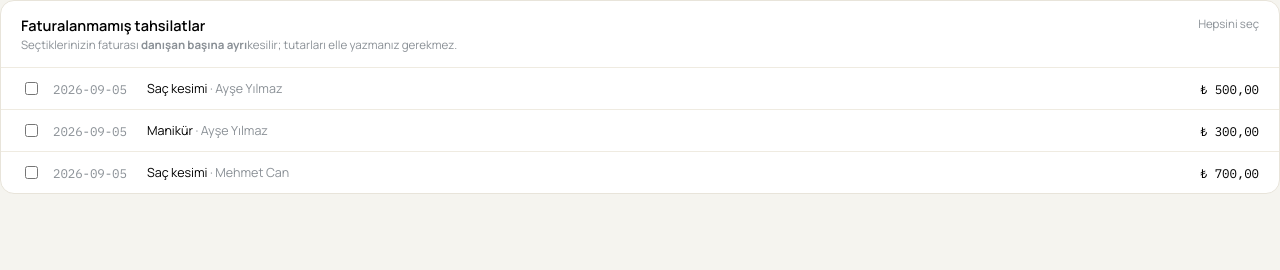
Scenario: TahsilattanKes › birden çok danışan varsa kaç fatura kesileceğini söylüyor
Click the button "Hepsini seç". click: (1229, 24)
box: [1198,16,1259,31]
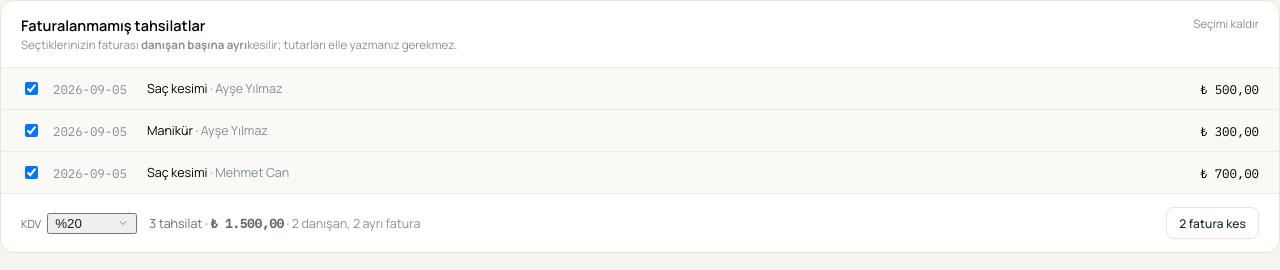
Check: the text "· 2 danışan, 2 ayrı fatura" is shown, box [284,214,420,232]
Check: the button "2 fatura kes" is shown, box [1166,207,1259,239]
